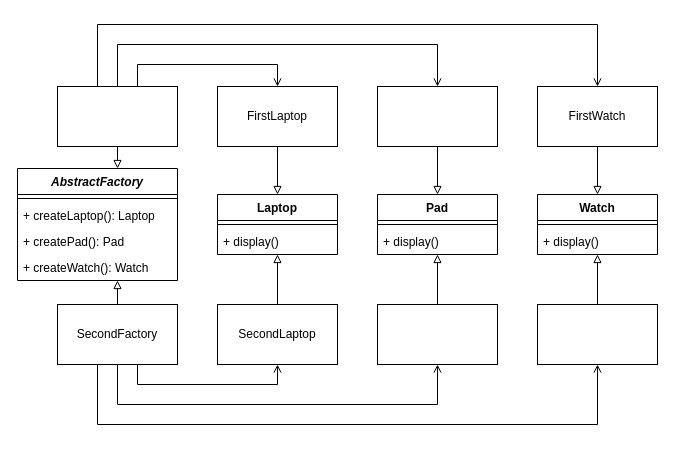
Some shapes in this 675 by 450 pixel diagram are drawn without their labels. The shapes that lost their labels are listed below. From the top down, each one's centre as x and y in pixels, then its label:
the point at 117,116: FirstFactory
the point at 437,116: FirstPad
the point at 437,334: SecondPad
the point at 597,334: SecondWatch
